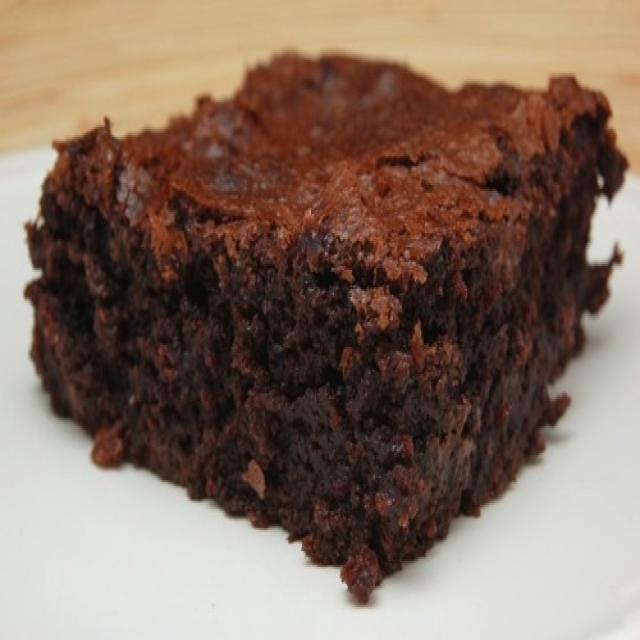蛋糕甜品: (39, 21, 606, 596)
